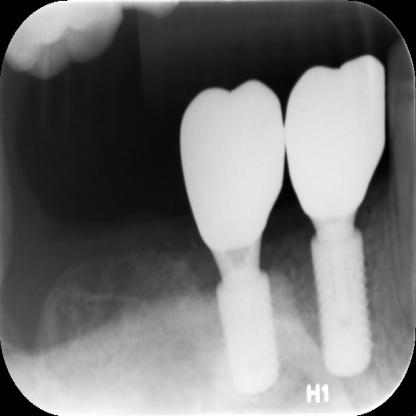ITI: (304, 230, 380, 379), (209, 268, 285, 398)
